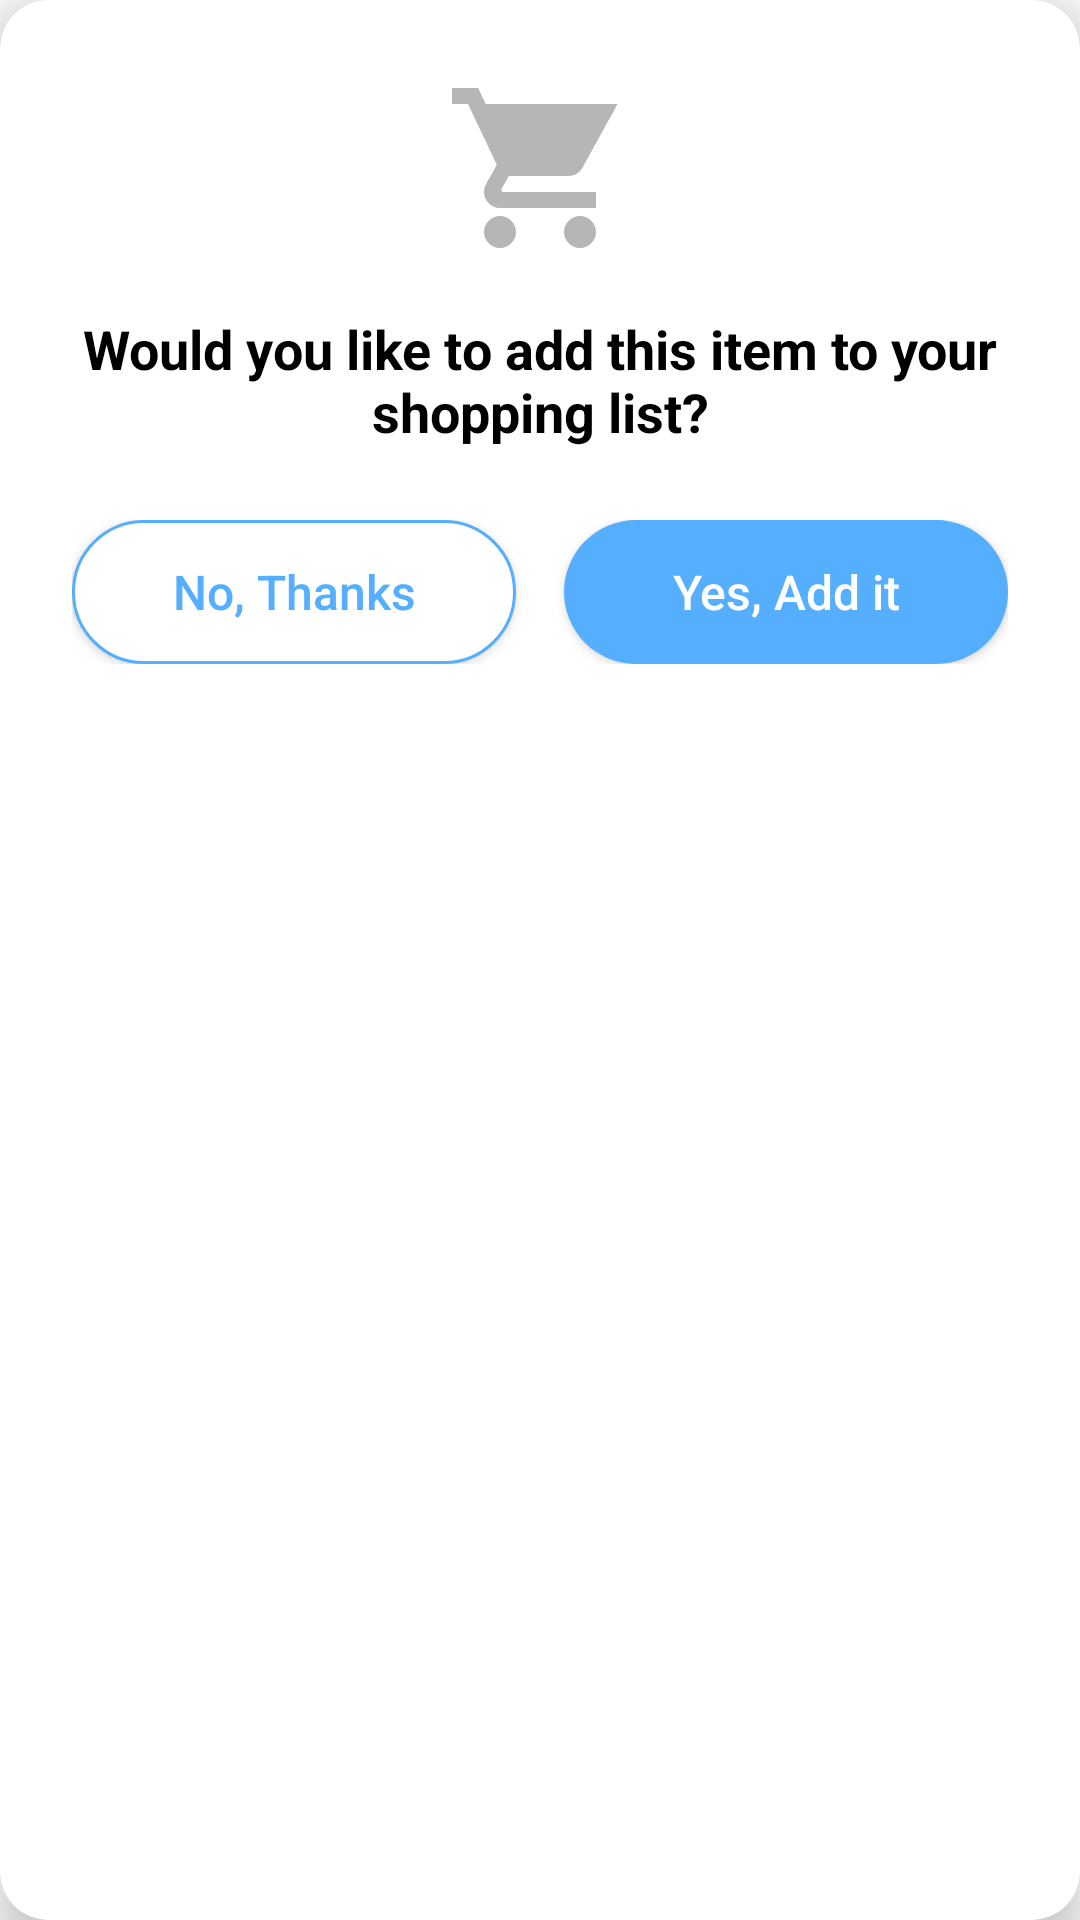

Named icons in this screenshot (1080px×1920px) and their bounding boxes, (x1,y1,x2,y2):
shopping cart empty: (452,88,617,248)
